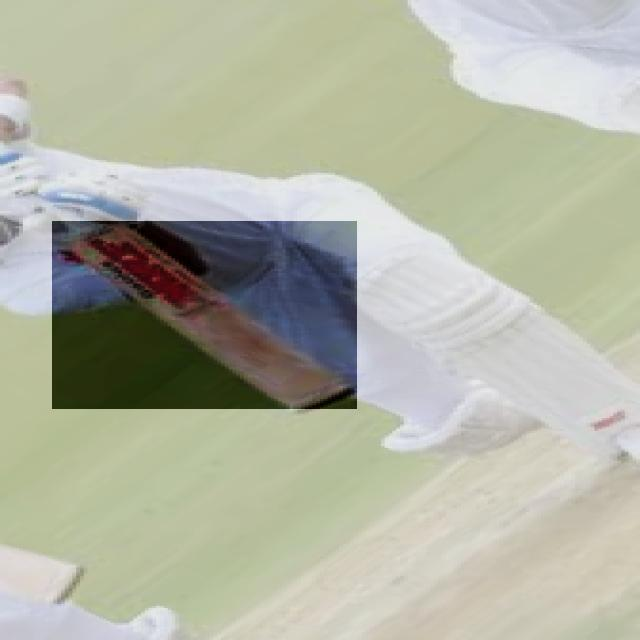bat: (51, 221, 356, 408)
toe: (290, 380, 358, 407)
